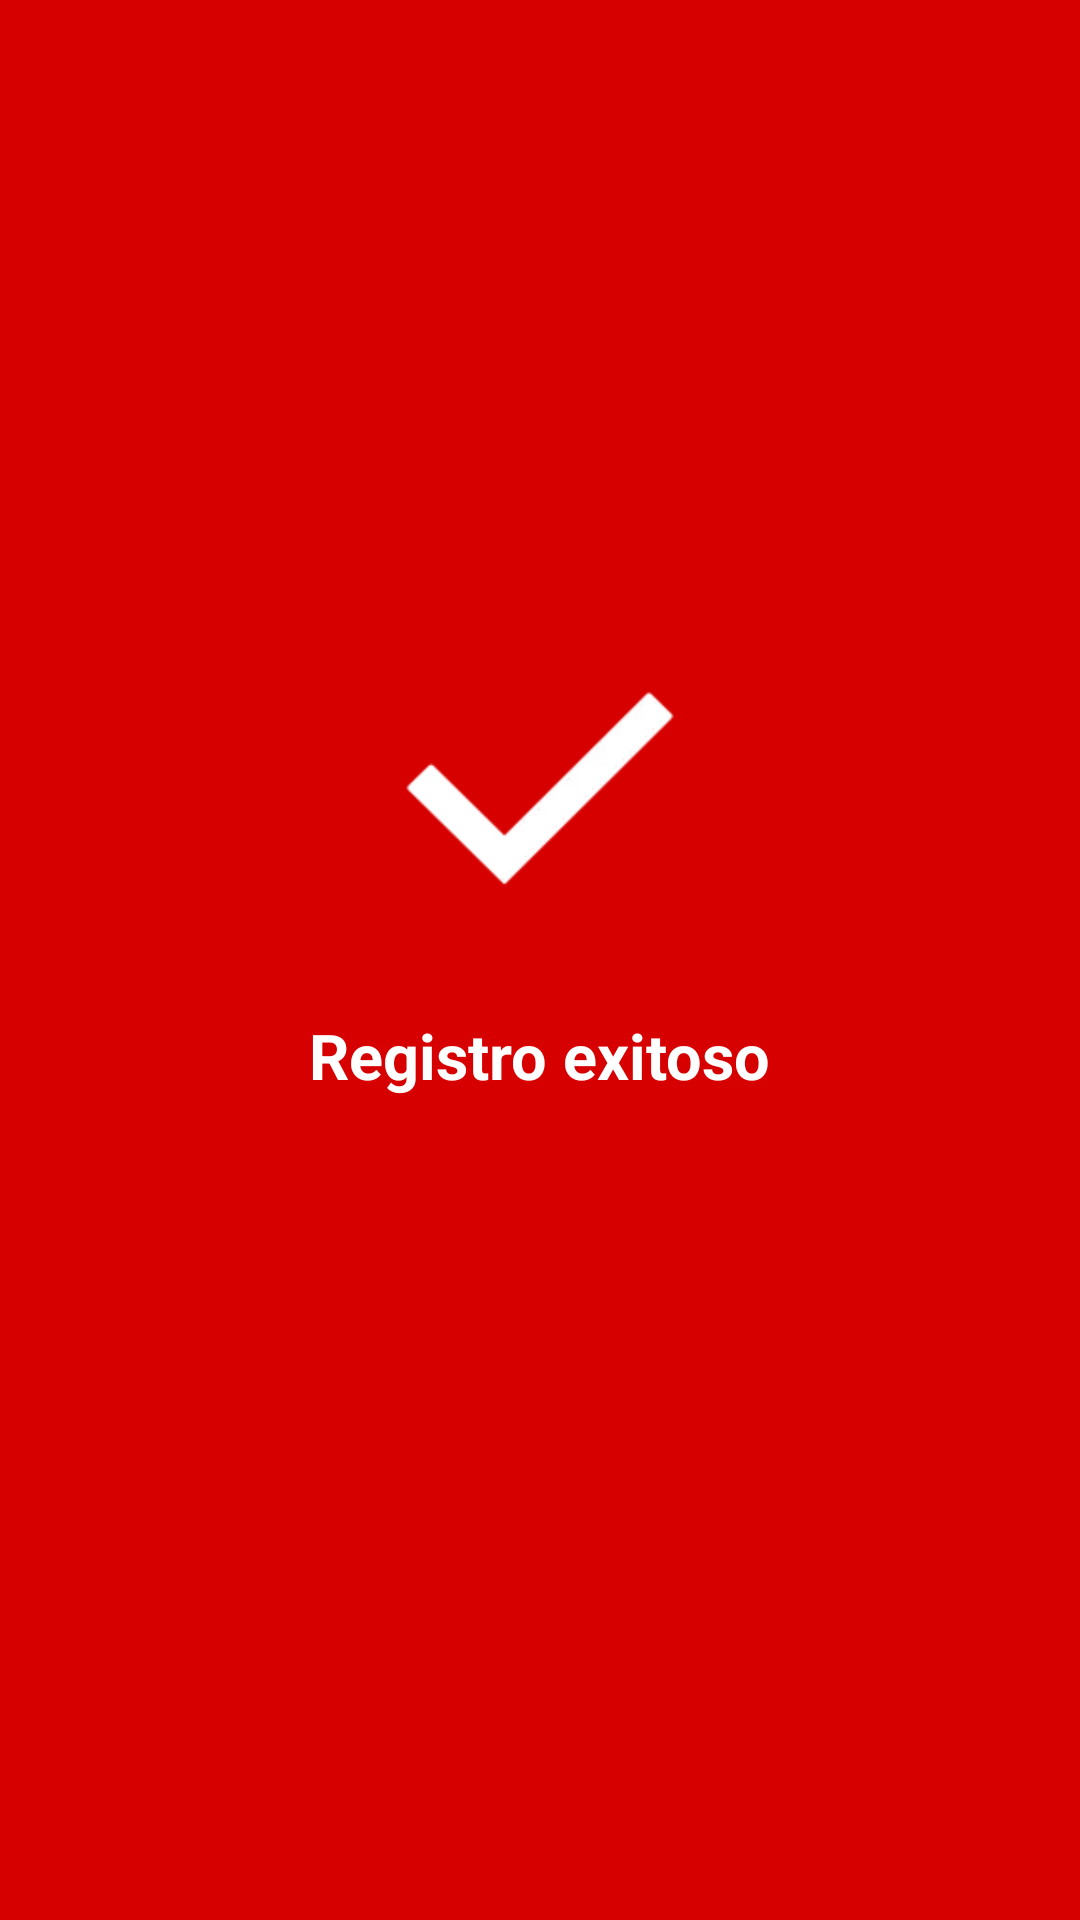

Point at icon controls on the screen. Image size 1080px×1920px, points as (x,y).
successful: (540,788)
